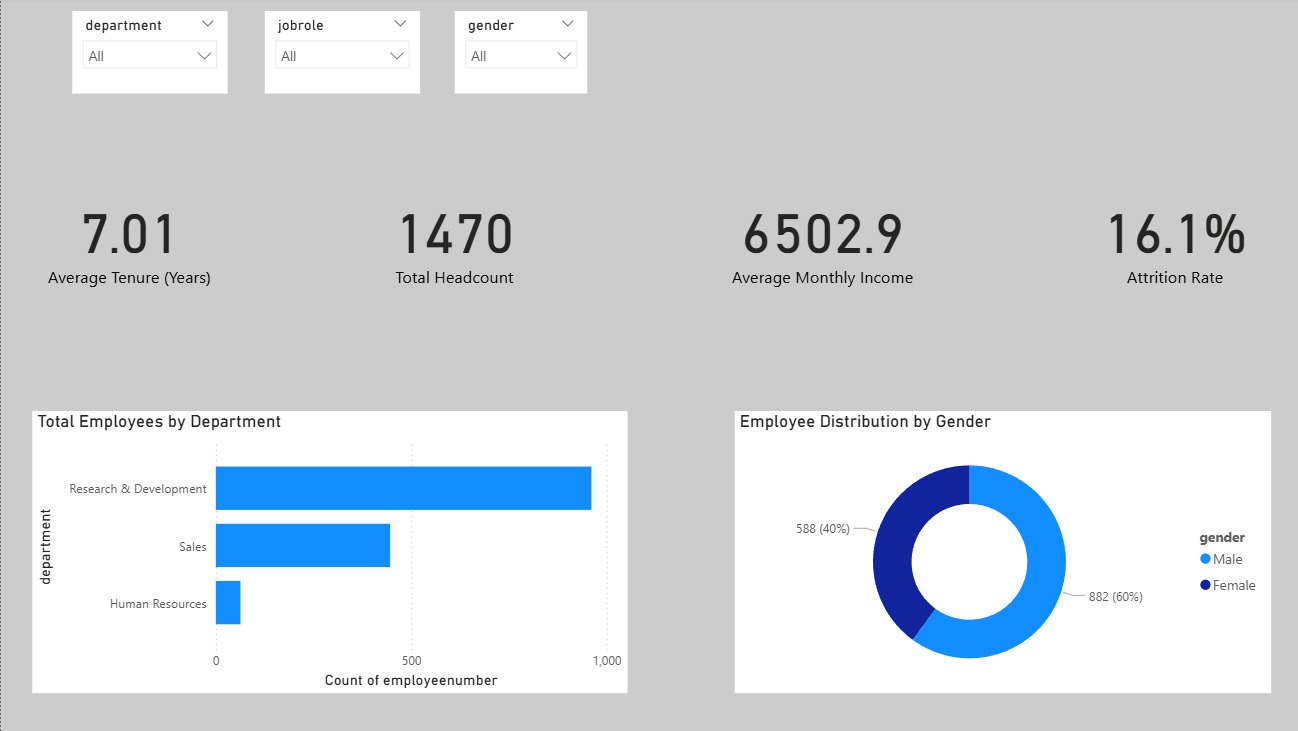

The dashboard page shown, as its layout file describes it:
{"tool":"powerbi","page":{"name":"02_Executive_Summary","canvas":[1280,720],"ordinal":1},"visuals":[{"type":"card","fields":{"Values":["Count(hr_data_with_predictions.employeenumber)"]},"box":[343.6,155.3,200.5,161.4],"z":0},{"type":"card","fields":{"Values":["Avg(hr_data_with_predictions.yearsatcompany)"]},"box":[30.6,155.3,190.8,161.4],"z":1000},{"type":"card","fields":{"Values":["Avg(hr_data_with_predictions.monthlyincome)"]},"box":[697,155.3,214,161.4],"z":2000},{"type":"card","fields":{"Values":["hr_data_with_predictions.Attrition Rate"]},"box":[1055.3,155.3,187.1,161.4],"z":3000},{"type":"barChart","title":"Total Employees by Department","fields":{"Category":["hr_data_with_predictions.department"],"Y":["Count(hr_data_with_predictions.employeenumber)"]},"box":[30.6,406,582.1,276.4],"z":4000},{"type":"donutChart","title":"Employee Distribution by Gender","fields":{"Y":["Count(hr_data_with_predictions.employeenumber)"],"Category":["hr_data_with_predictions.gender"]},"box":[717.8,406,524.6,276.4],"z":5000},{"type":"slicer","fields":{"Values":["hr_data_with_predictions.department"]},"box":[69.7,14.7,151.6,80.7],"z":6000},{"type":"slicer","fields":{"Values":["hr_data_with_predictions.jobrole"]},"box":[258,14.7,151.6,80.7],"z":7000},{"type":"slicer","fields":{"Values":["hr_data_with_predictions.gender"]},"box":[443.9,14.7,129.6,80.7],"z":8000}]}

Visuals, with their boxes in screenshot pixels (x1, y1, x2, y2), scaled from the page's 1280x720 canvas onto the 1298x731 screenshot:
card - Count(hr_data_with_predictions.employeenumber): bbox(348, 158, 552, 322)
card - Avg(hr_data_with_predictions.yearsatcompany): bbox(31, 158, 225, 322)
card - Avg(hr_data_with_predictions.monthlyincome): bbox(707, 158, 924, 322)
card - hr_data_with_predictions.Attrition Rate: bbox(1070, 158, 1260, 322)
"Total Employees by Department" barChart: bbox(31, 412, 621, 693)
"Employee Distribution by Gender" donutChart: bbox(728, 412, 1260, 693)
slicer - hr_data_with_predictions.department: bbox(71, 15, 224, 97)
slicer - hr_data_with_predictions.jobrole: bbox(262, 15, 415, 97)
slicer - hr_data_with_predictions.gender: bbox(450, 15, 582, 97)
